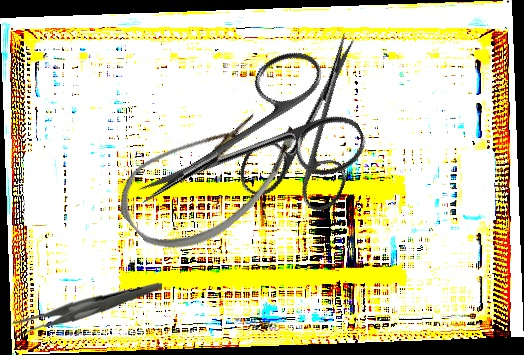Cannula: (105, 74, 314, 275)
Dressing Forceps: (12, 277, 162, 342)
Iris Scissors: (111, 37, 374, 258), (233, 15, 396, 224)
